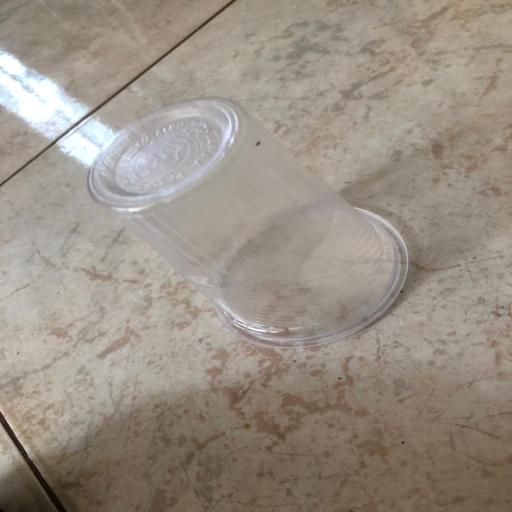waste: (43, 79, 452, 358)
